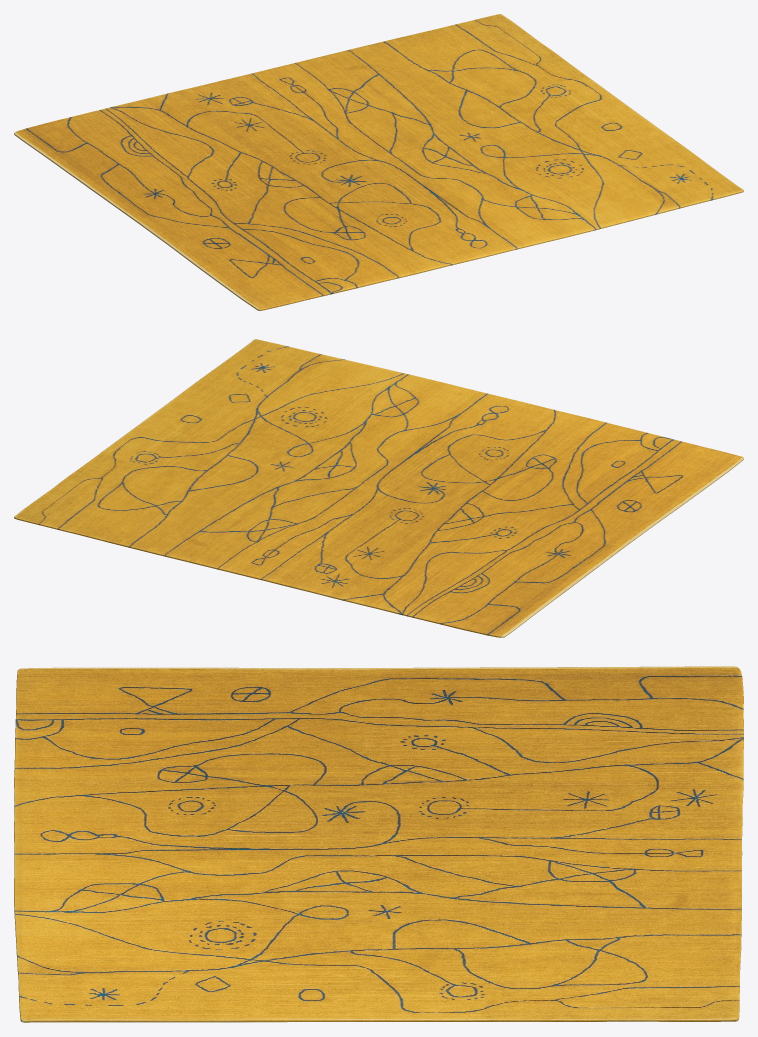
The model's file is rug.gltf.
The picture shows the model from 3 angles, top to bottom: view 1: azimuth 30°, elevation 25°; view 2: azimuth 150°, elevation 25°; view 3: azimuth 270°, elevation 25°; orthographic projection. The views are drawn at different scales.
Visible parts, largest first — view 1: Kuuma-YE_Rugs-Kristiina-Lassus_0; view 2: Kuuma-YE_Rugs-Kristiina-Lassus_0; view 3: Kuuma-YE_Rugs-Kristiina-Lassus_0.
Boxes of the visible parts, left/top/right/bottom form: Kuuma-YE_Rugs-Kristiina-Lassus_0: left=14, top=14, right=743, bottom=310; Kuuma-YE_Rugs-Kristiina-Lassus_0: left=14, top=339, right=743, bottom=637; Kuuma-YE_Rugs-Kristiina-Lassus_0: left=14, top=666, right=743, bottom=1022.
Size of the model in its own units: 2.42 by 0.008 by 2.11.
Materials: 2 (2 with a texture image).
